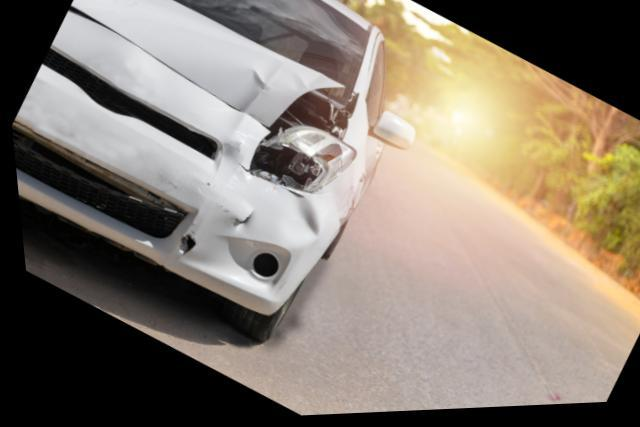crack: (174, 234, 191, 257), (228, 213, 250, 227), (234, 163, 247, 175)
dent: (146, 30, 302, 128), (245, 193, 312, 250)
dislocated part: (69, 0, 353, 142)
lamp broken: (247, 127, 351, 195)
